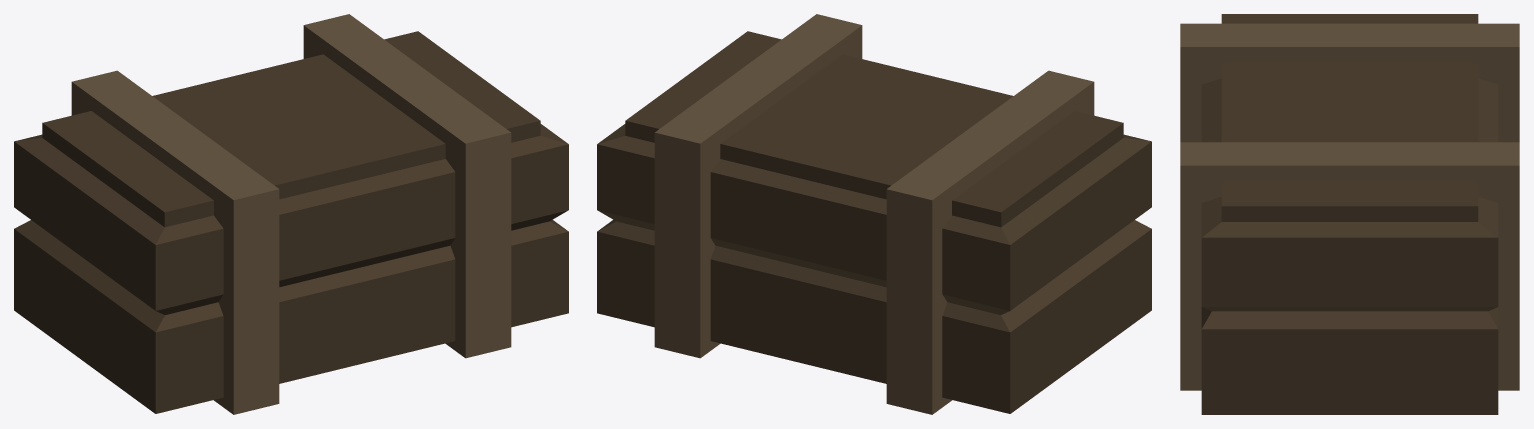
File: SM_Prop_Crate_02.glb
3 renders of one model, left to right at view 1: azimuth 30°, elevation 25°; view 2: azimuth 150°, elevation 25°; view 3: azimuth 270°, elevation 25°, orthographic. The views are drawn at different scales.
Parts seen in each view (by area): view 1: SM_Prop_Crate_02; view 2: SM_Prop_Crate_02; view 3: SM_Prop_Crate_02.
Part boxes in pixels (box(x1,y1,x2,y2)): SM_Prop_Crate_02: box(14, 14, 568, 414); SM_Prop_Crate_02: box(597, 14, 1151, 414); SM_Prop_Crate_02: box(1180, 14, 1519, 414).
Size of the model in its own units: 0.0065 by 0.00323 by 0.00441.
